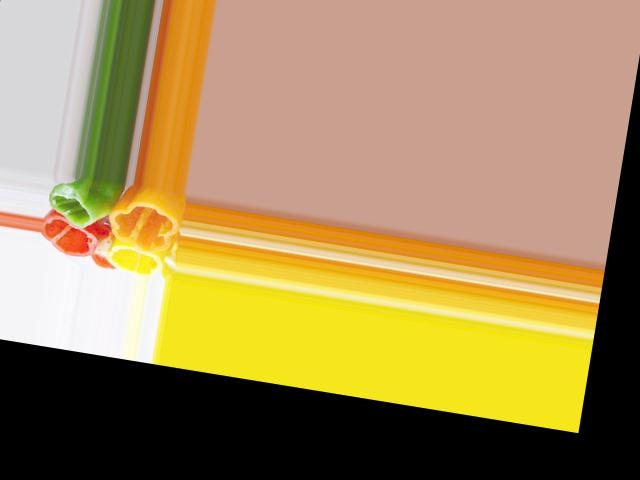bell_pepper: (40, 215, 101, 261)
